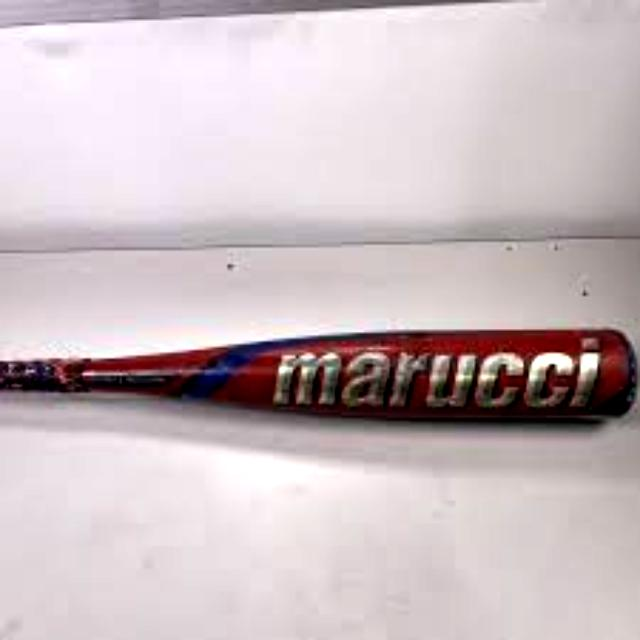baseball bat: (0, 328, 638, 420)
